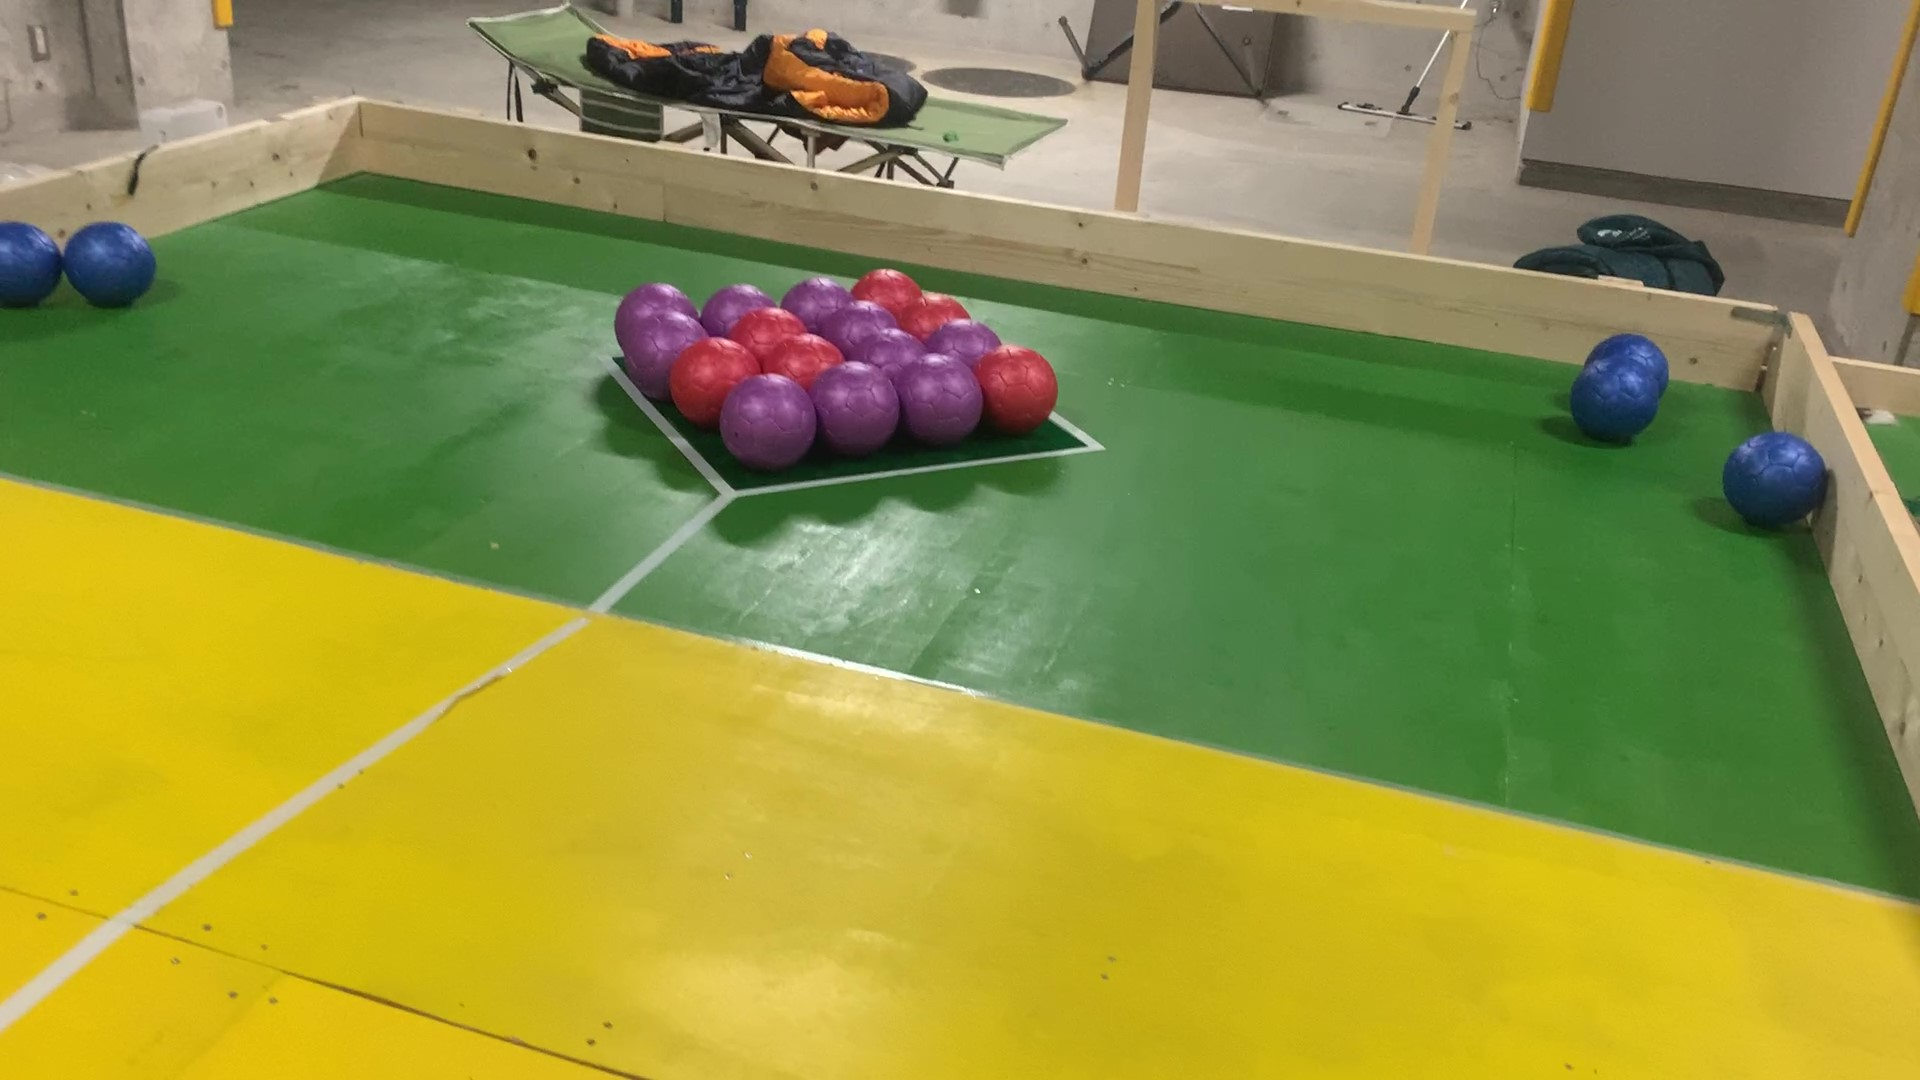blue: (1739, 438, 1813, 522), (80, 231, 148, 303), (1586, 363, 1647, 433), (4, 219, 47, 298), (1611, 336, 1662, 361)
purple: (732, 385, 806, 456), (820, 378, 886, 443), (913, 367, 972, 427), (638, 316, 671, 390), (628, 287, 688, 314), (712, 282, 771, 309), (939, 326, 996, 352), (864, 335, 918, 361), (793, 278, 845, 305), (829, 313, 884, 332)
red: (989, 348, 1050, 426), (678, 345, 728, 404), (771, 340, 844, 373), (866, 269, 907, 303), (738, 311, 787, 339), (914, 301, 961, 327)
